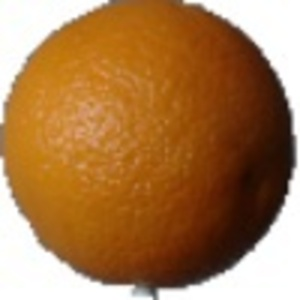laranja: (4, 3, 297, 289)
